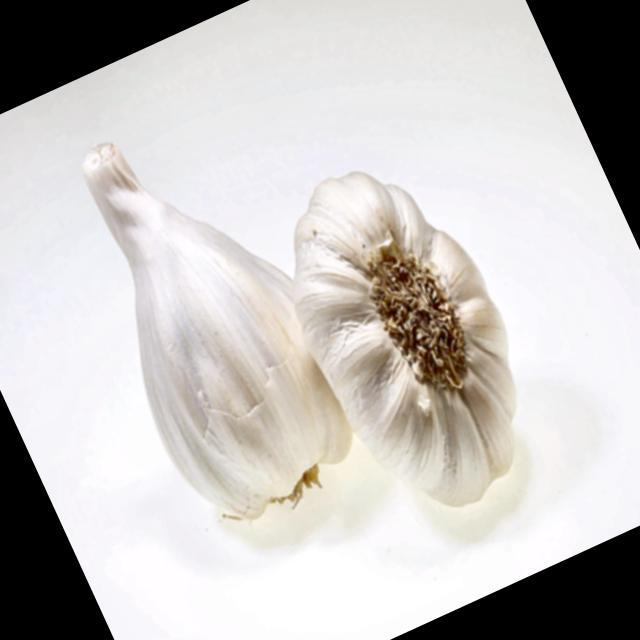garlic: (84, 145, 350, 518), (295, 174, 515, 506)
